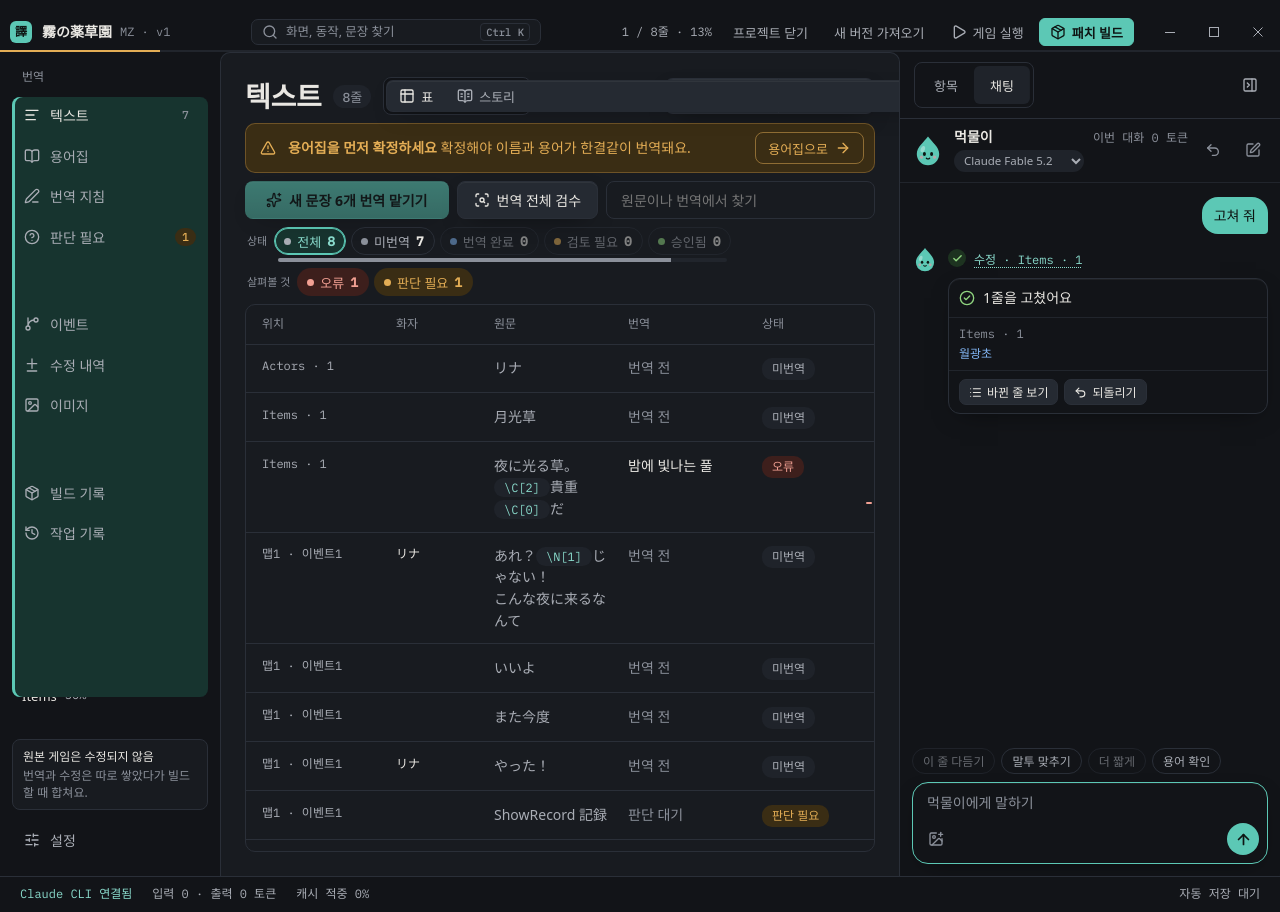
Test case: 결과 카드의 되돌리기는 이 대화가 남긴 행동을 취소하고, 그 뒤에 다른 행동이 있으면 하지 않는다
Earlier steps of the test are not shown.
Later steps or results of the test are not shown.
Click the button "되돌리기".
click(1106, 392)  # box [1064, 379, 1147, 405]
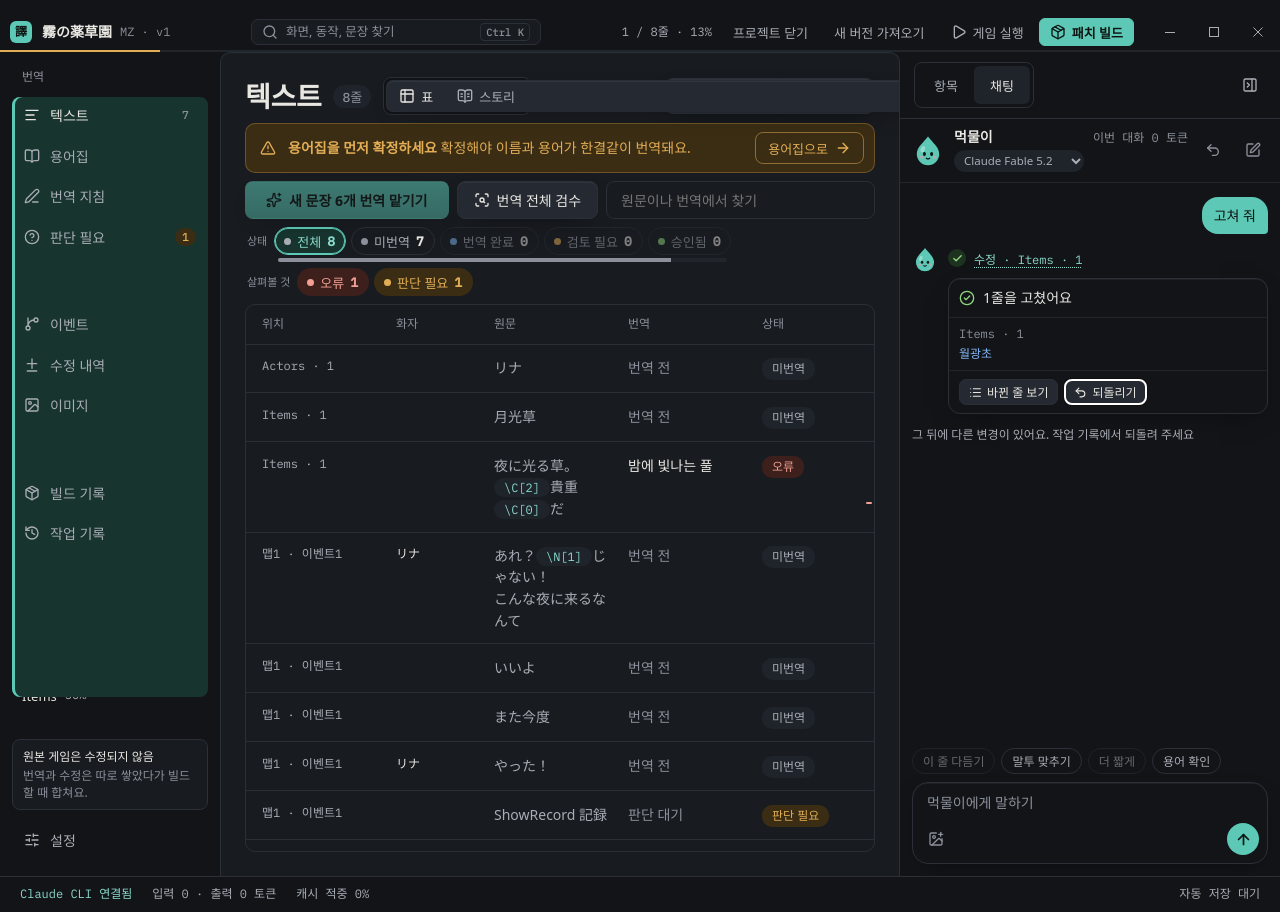
Expected: the text "그 뒤에 다른 변경이 있어요. 작업 기록에서 되돌려 주세요" is shown, [912, 426, 1194, 443]
